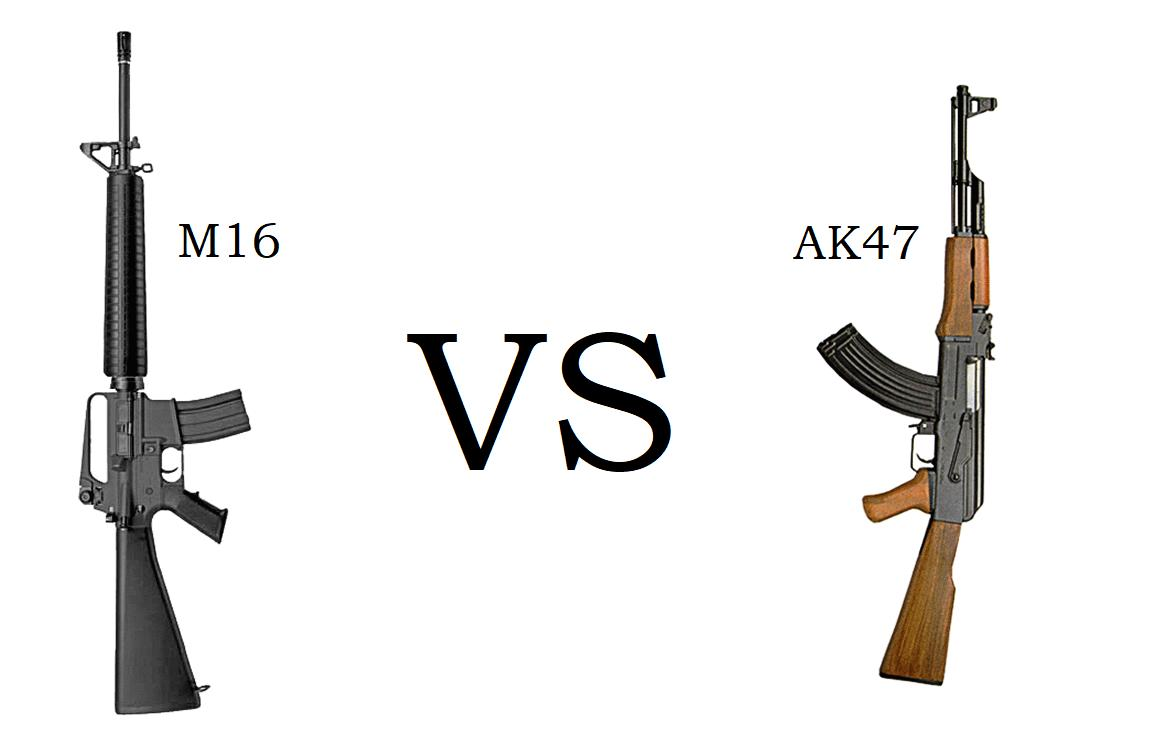larga: (78, 29, 255, 718), (817, 81, 997, 687)
